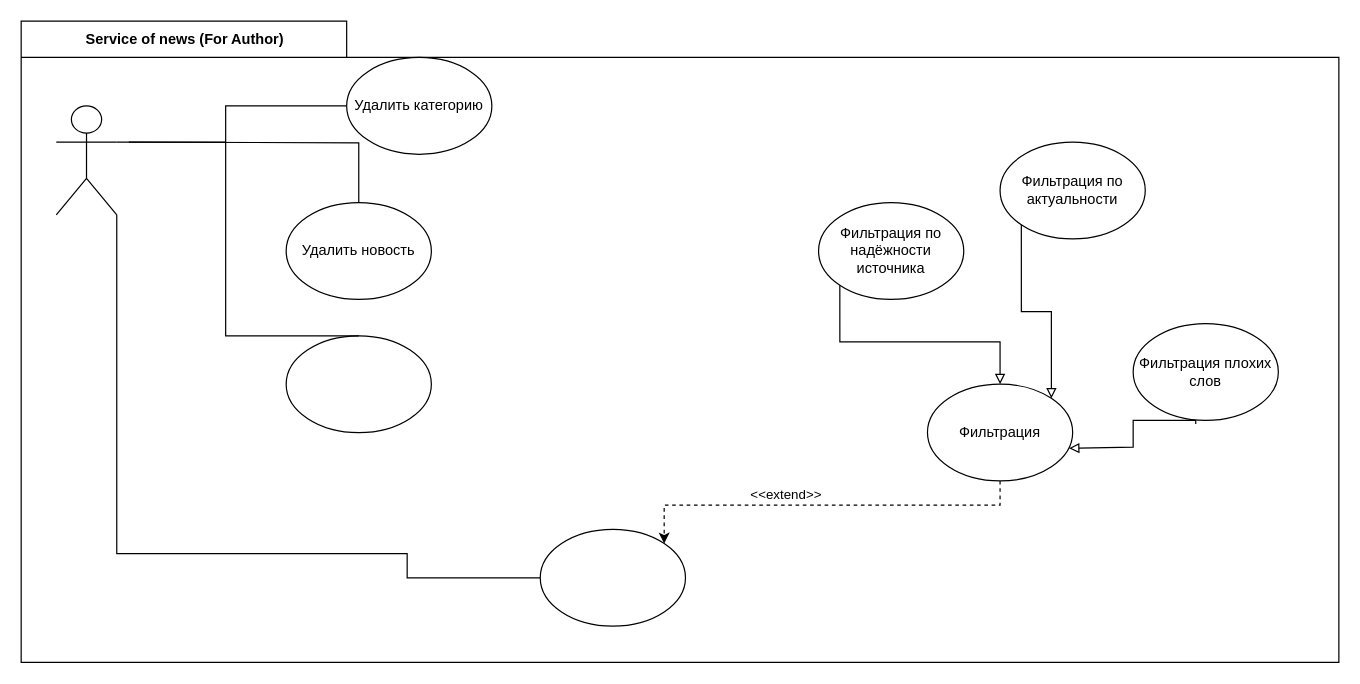
Image size: 1360x684. Some labels were removed from this diagram. The shapes that lost their labels are listed below. From the top down, each one's centre as x and y in pixels, then its label:
At (86,160): "Author".
At (358,384): "Добавить новость".
At (612,577): "Получить список новостей".
